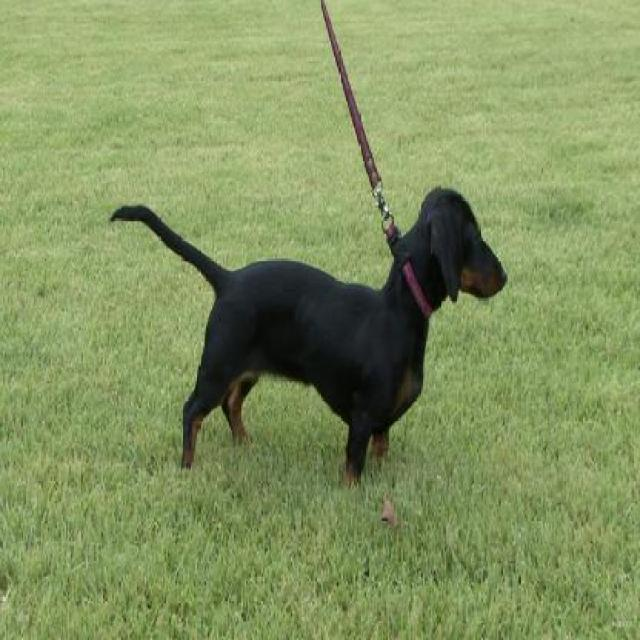Dog: (108, 174, 512, 506)
